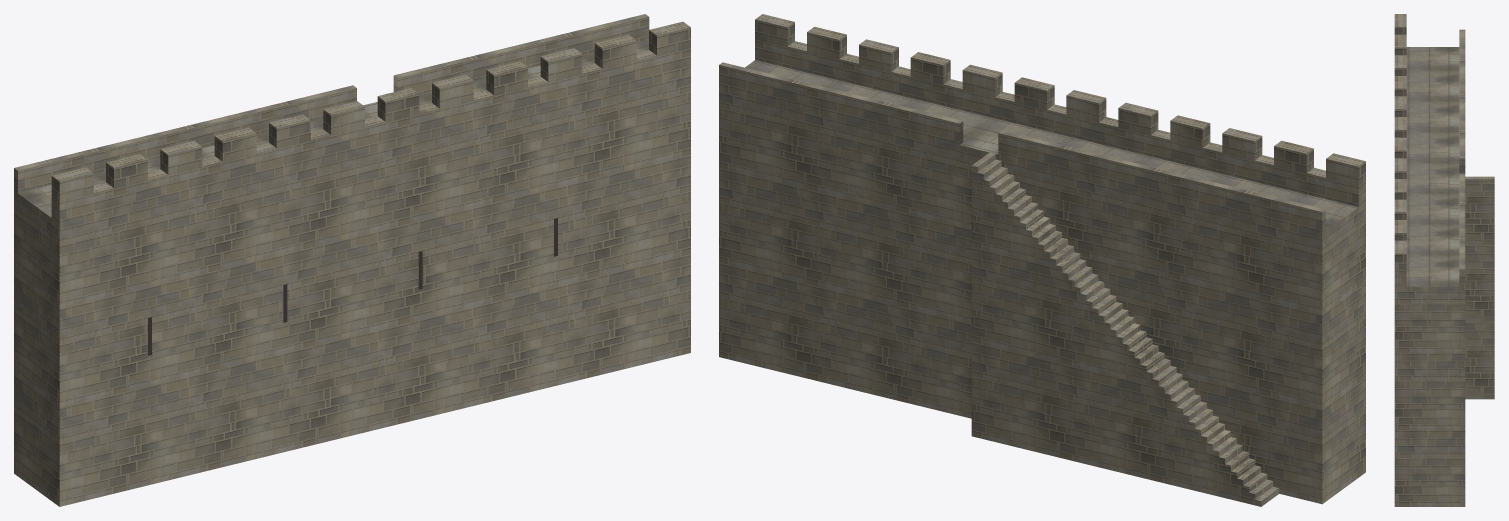
The model's file is fort-wall-28s.reveal-v1.lod0.glb.
3 renders of one model, left to right at view 1: azimuth 30°, elevation 25°; view 2: azimuth 150°, elevation 25°; view 3: azimuth 270°, elevation 25°, orthographic. The views are drawn at different scales.
Parts seen in each view (by area): view 1: fort-wall-28s; view 2: fort-wall-28s; view 3: fort-wall-28s.
Boxes of the visible parts, left/top/right/bottom form: fort-wall-28s: left=14, top=14, right=690, bottom=506; fort-wall-28s: left=719, top=14, right=1365, bottom=506; fort-wall-28s: left=1394, top=14, right=1494, bottom=506.
Size of the model in its own units: 28 by 13.8 by 4.97.
Materials: 3 (2 with a texture image).
